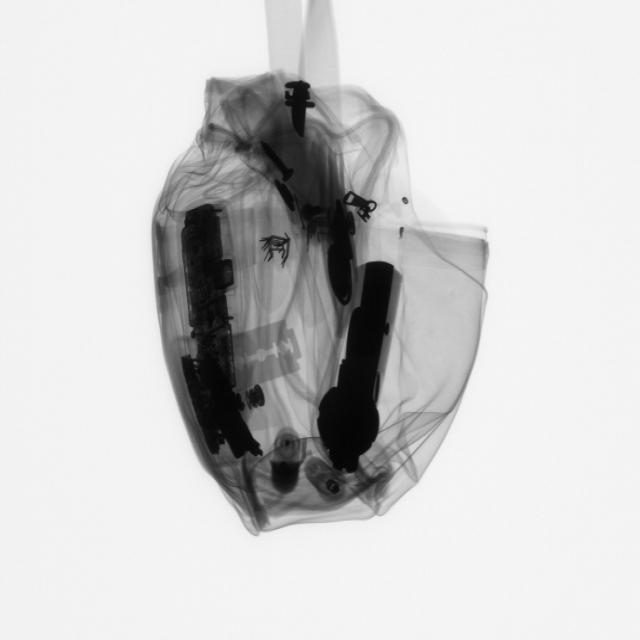BLADE: (228, 315, 303, 392)
GUN: (312, 254, 404, 478)
SCREW: (253, 133, 308, 199)
